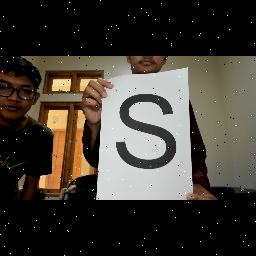s: (107, 92, 185, 176)
